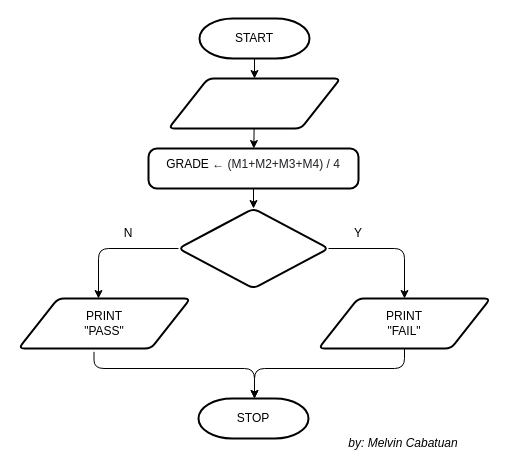
Image size: 508x475. Some labels were removed from this diagram. Each missing label, with the centre of its shape:
GRADE < 70: the point at 253,248
Input M1, M2, M3, M4: the point at 254,103
